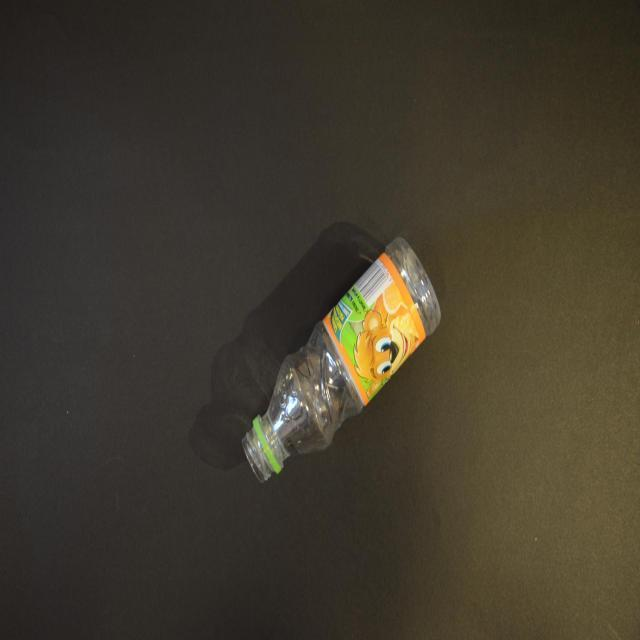plastic_bottle: (242, 236, 441, 483)
